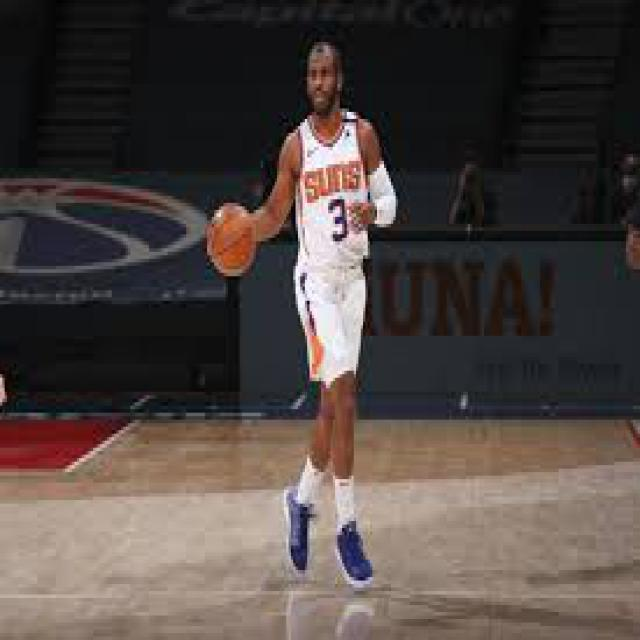basketball: (207, 202, 254, 276)
